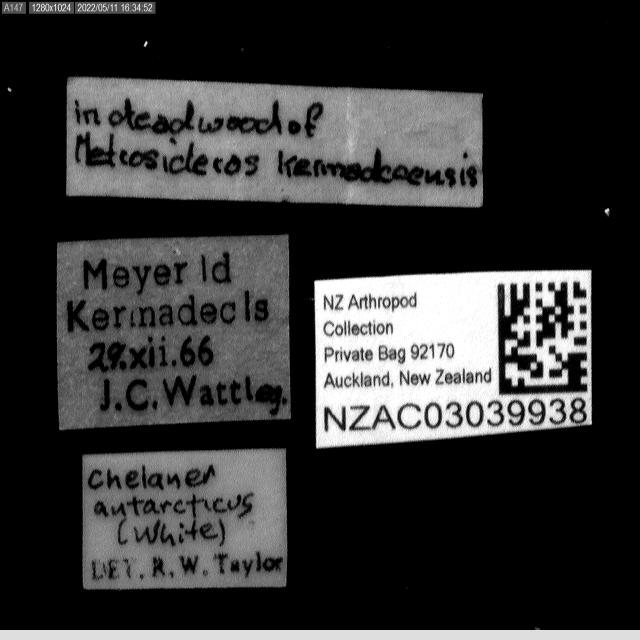hand_label: (66, 77, 482, 208)
mixed_label: (58, 236, 290, 430), (82, 448, 286, 589)
typed_label: (315, 270, 591, 447)
